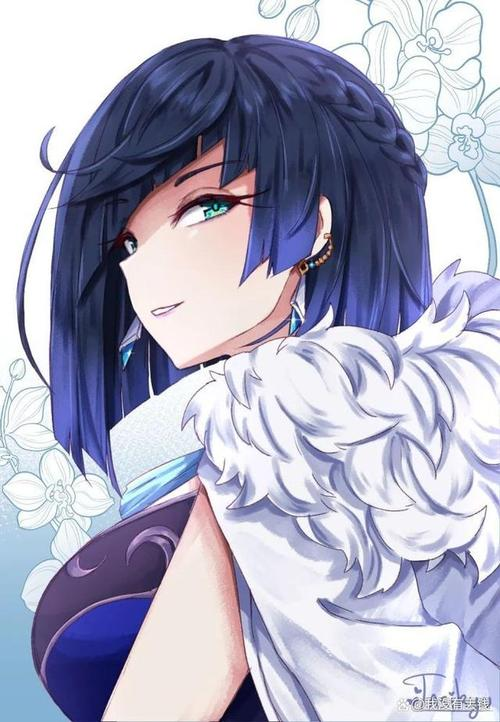夜兰: (32, 35, 500, 722)
